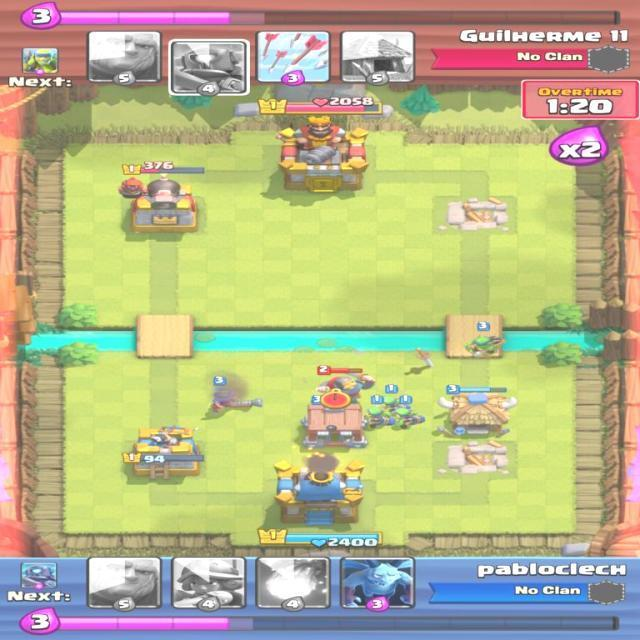ECannoneerTower: (133, 180, 200, 236)
EKingTower: (283, 123, 372, 188)
EKnight: (324, 375, 370, 400)
OGoblinCage: (307, 404, 369, 447)
OGoblinHut: (448, 386, 512, 434)
OMusk: (211, 386, 266, 416)
OSpearGoblin: (468, 332, 503, 356), (362, 408, 391, 429), (379, 394, 404, 413), (395, 414, 416, 429)
OwnKingTower: (271, 458, 374, 548)
OwnPrincessTower: (135, 429, 196, 479)
TowerDown: (432, 443, 517, 481), (433, 198, 517, 236)
